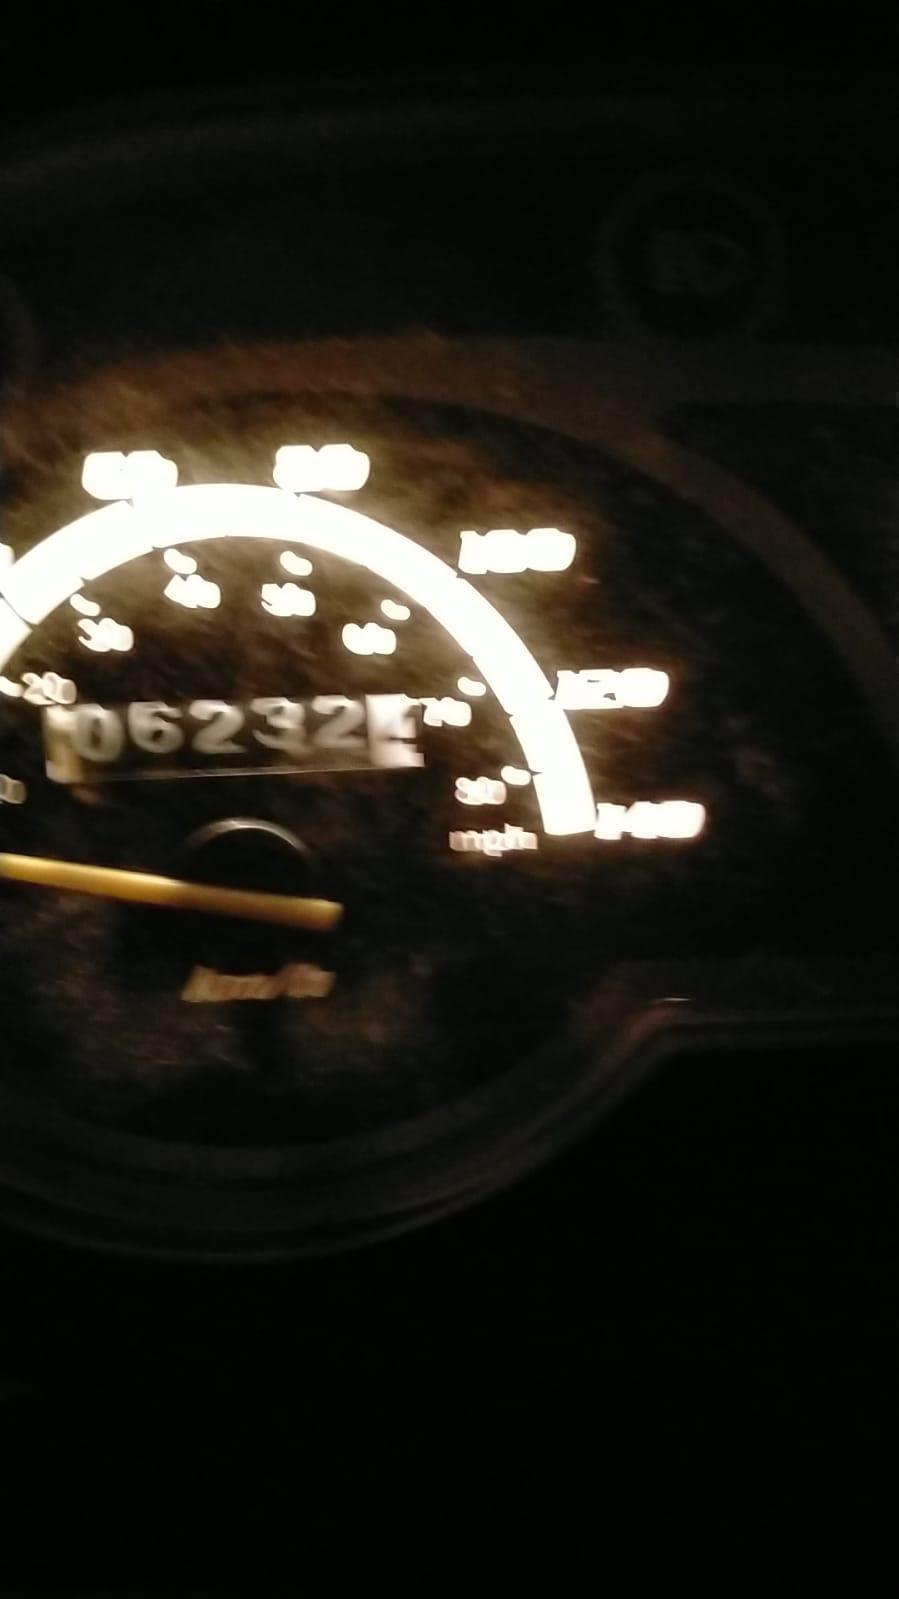0: (67, 698, 122, 771)
2: (189, 695, 247, 759), (310, 691, 367, 754)
3: (249, 691, 307, 757)
4: (377, 701, 427, 770)
6: (126, 695, 188, 760)
odometer: (46, 684, 432, 794)
